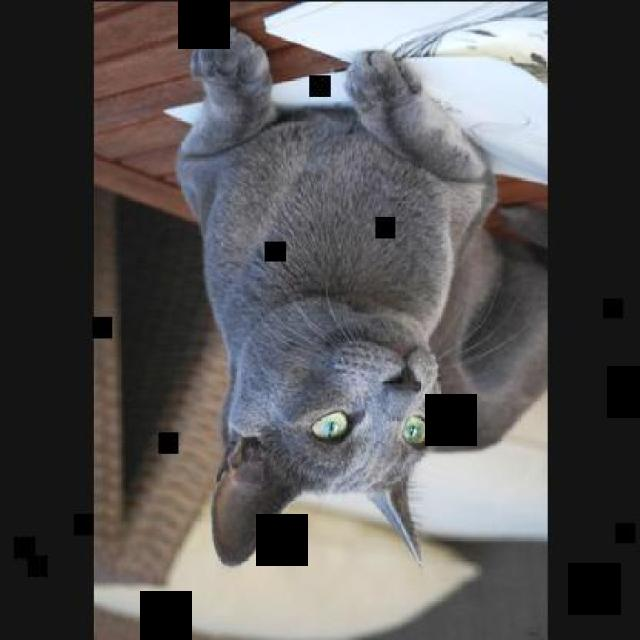unauthorized: (172, 21, 546, 568)
